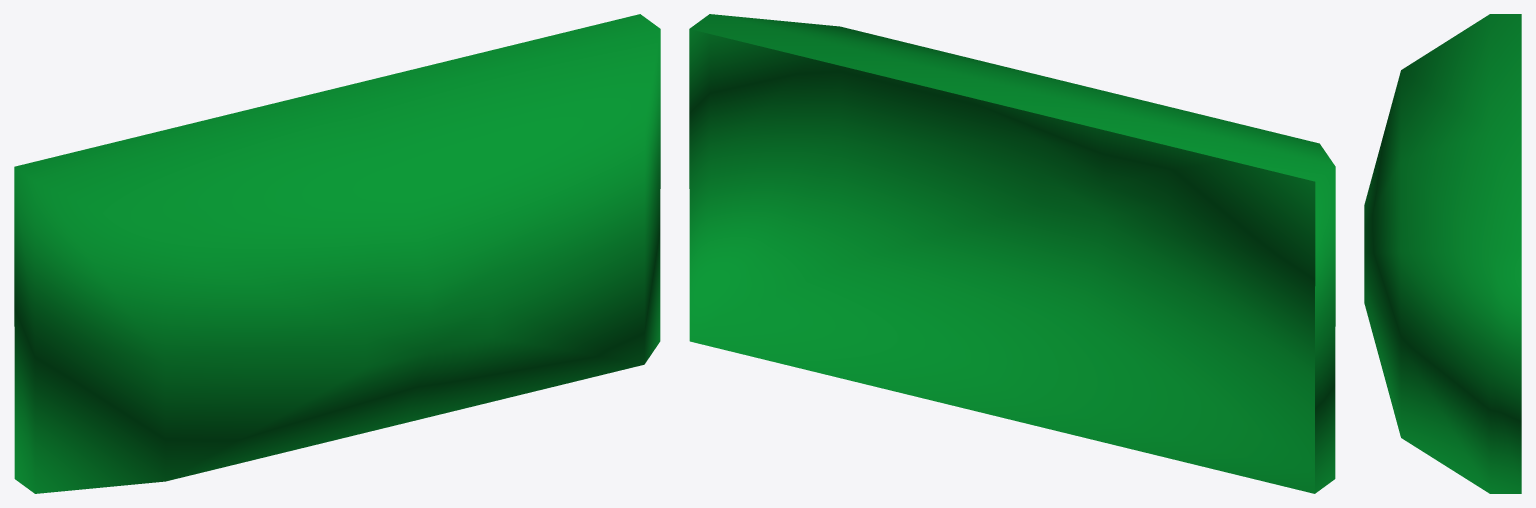
File: Button_On.glb
3 views of the same model, side by side, from view 1: azimuth 30°, elevation 25°; view 2: azimuth 150°, elevation 25°; view 3: azimuth 270°, elevation 25° (orthographic). The views are drawn at different scales.
Visible parts, largest first — view 1: ButtonOn; view 2: ButtonOn; view 3: ButtonOn.
Part boxes in pixels (bbox=[...]): ButtonOn: bbox=[14, 14, 660, 493]; ButtonOn: bbox=[689, 14, 1335, 493]; ButtonOn: bbox=[1364, 14, 1521, 493].
Size of what is drawn, in the model's own units: 0.3562 by 0.1699 by 0.1.
